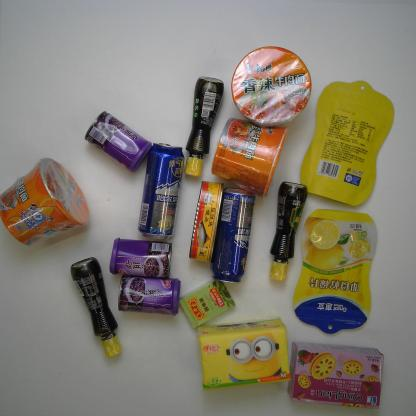Alcohol: (136, 141, 186, 241), (209, 186, 256, 284)
Candy: (179, 278, 236, 329)
Canned Food: (84, 110, 154, 174), (188, 179, 225, 264), (108, 236, 173, 280), (116, 274, 182, 316)
Dessert: (286, 341, 385, 410)
Dried Fruit: (299, 77, 395, 208), (291, 207, 379, 335)
Instant Noodles: (0, 155, 90, 246), (210, 116, 291, 202), (230, 45, 313, 128)
Seasoner: (69, 256, 123, 360), (183, 75, 225, 178), (268, 180, 308, 283)
Tissue: (195, 315, 292, 392)
